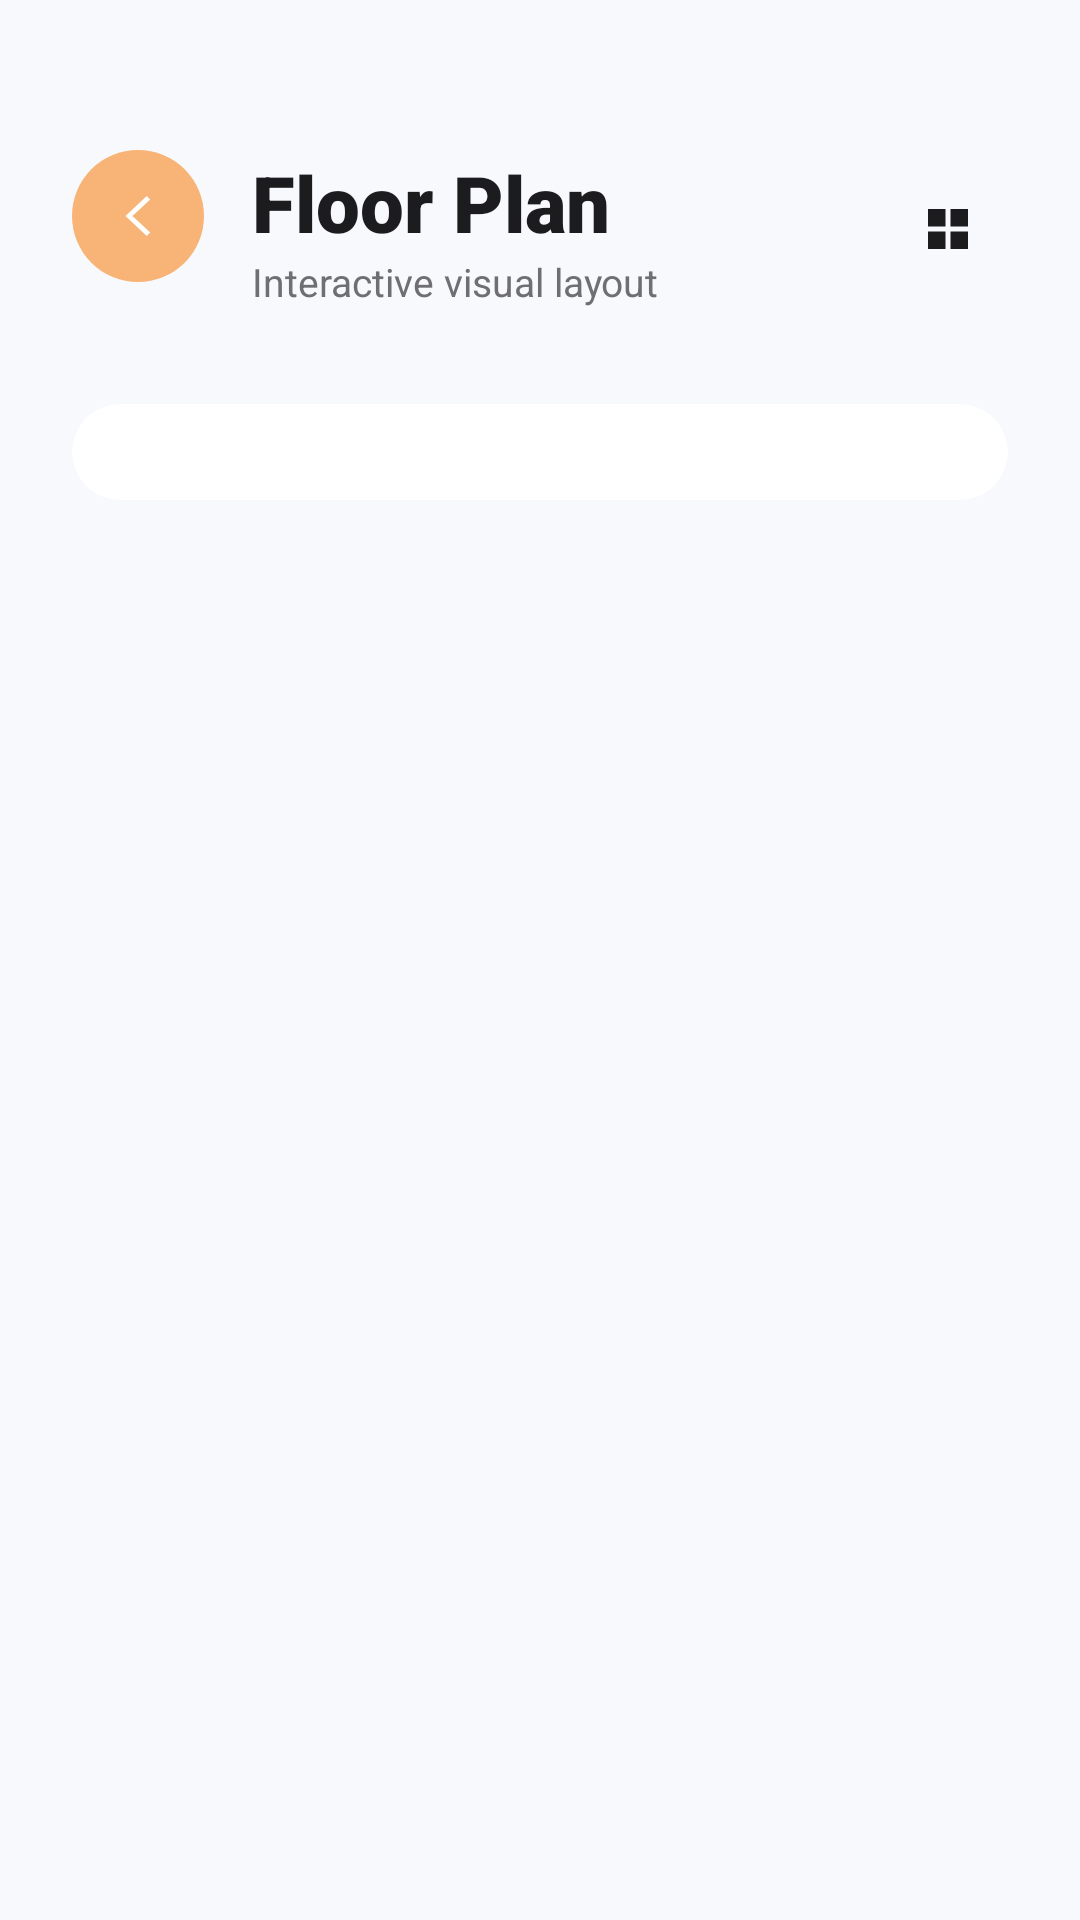

Named icons in this screenshot (1080 × 1920) and their centers, [x,y]:
back: [138,216]
grid: [948,229]
